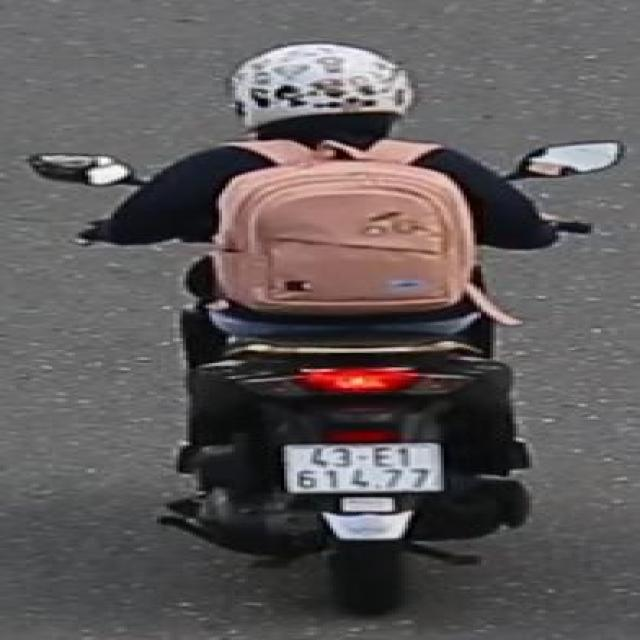LP: (276, 440, 449, 497)
helmet: (227, 36, 420, 127)
